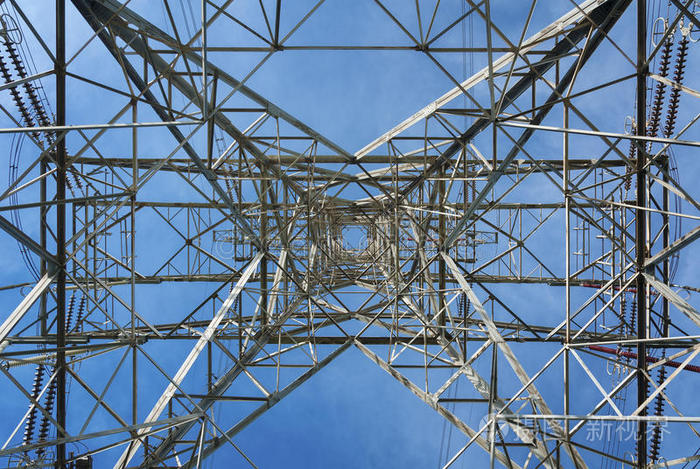insulator: (1, 42, 54, 137), (648, 38, 690, 133), (22, 366, 56, 460), (650, 362, 670, 459)
